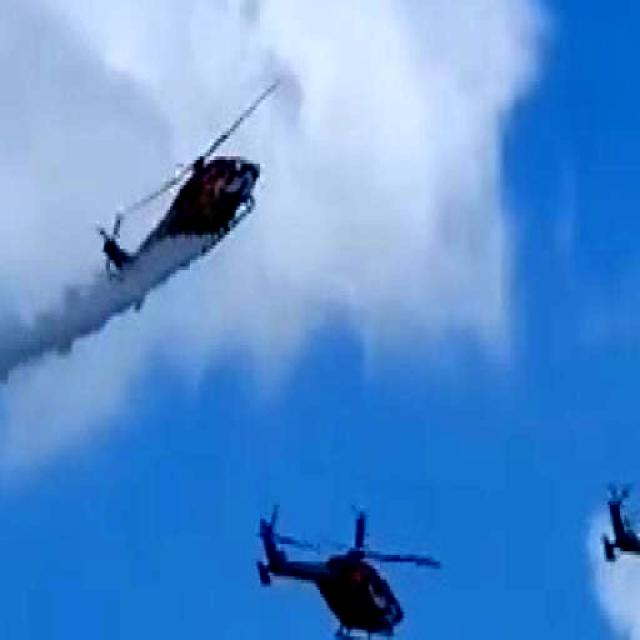drone: (256, 504, 442, 640), (102, 132, 266, 276)
